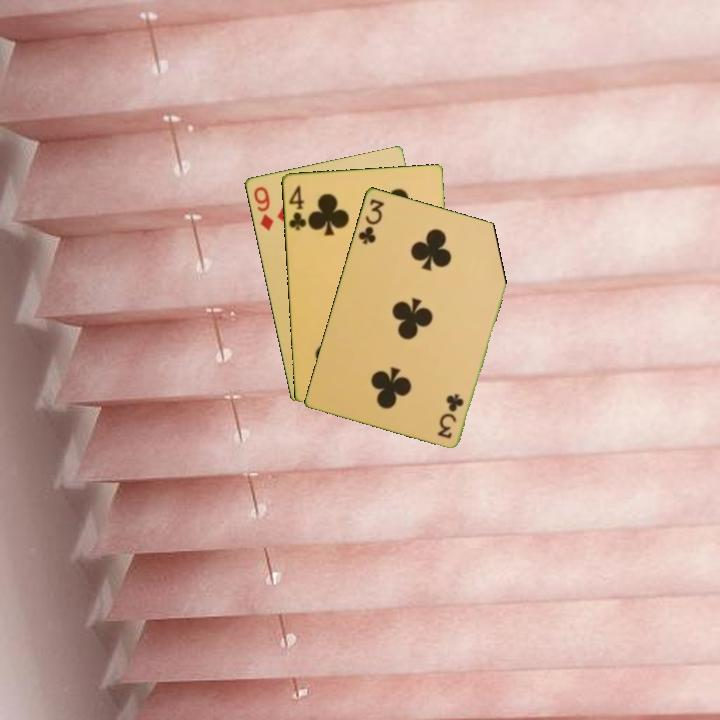3c: (354, 195, 387, 247), (435, 390, 466, 441)
4c: (285, 181, 309, 233)
9d: (250, 183, 276, 233)
